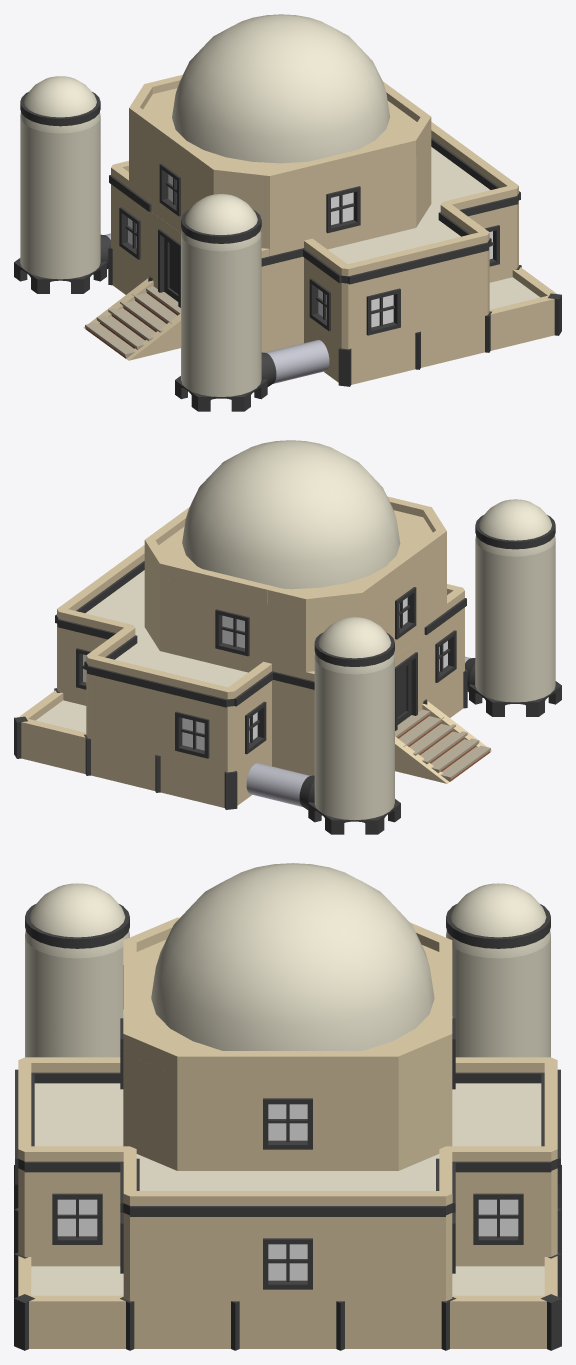
File: reacteur_a_fusion_nucleaire.glb
The picture shows the model from 3 angles, top to bottom: view 1: azimuth 30°, elevation 25°; view 2: azimuth 150°, elevation 25°; view 3: azimuth 270°, elevation 25°; orthographic projection. The views are drawn at different scales.
Visible parts, largest first — view 1: mergedBlocks(Clone); view 2: mergedBlocks(Clone); view 3: mergedBlocks(Clone).
Boxes of the visible parts, box(x1,y1,x2,y2) form: mergedBlocks(Clone): box(14, 14, 561, 411); mergedBlocks(Clone): box(14, 440, 561, 834); mergedBlocks(Clone): box(14, 863, 561, 1350).
Size of the model in its own units: 5.11 by 3.81 by 5.21.
Materials: 1 (1 with a texture image).
